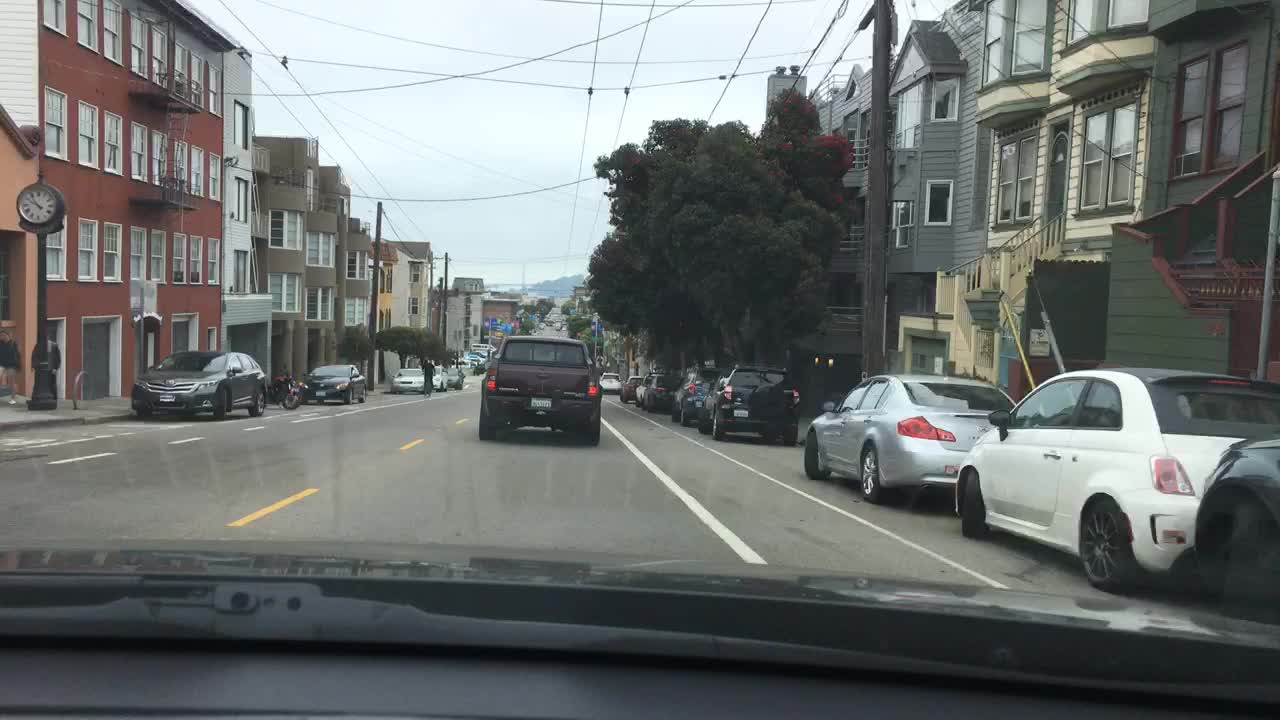bike: (420, 374, 434, 390)
car: (953, 365, 1280, 586), (804, 371, 1017, 500), (1194, 429, 1280, 621), (478, 334, 601, 445), (131, 348, 269, 414), (710, 363, 799, 448), (673, 365, 724, 422), (303, 362, 368, 405), (639, 377, 675, 406), (392, 366, 432, 390), (622, 374, 647, 402), (598, 368, 619, 390), (446, 365, 463, 386), (472, 342, 492, 359), (432, 360, 444, 386), (450, 362, 472, 376), (464, 353, 481, 368)
motor: (269, 368, 303, 409)
rider: (417, 353, 430, 377)
traffic sign: (377, 293, 392, 310)
